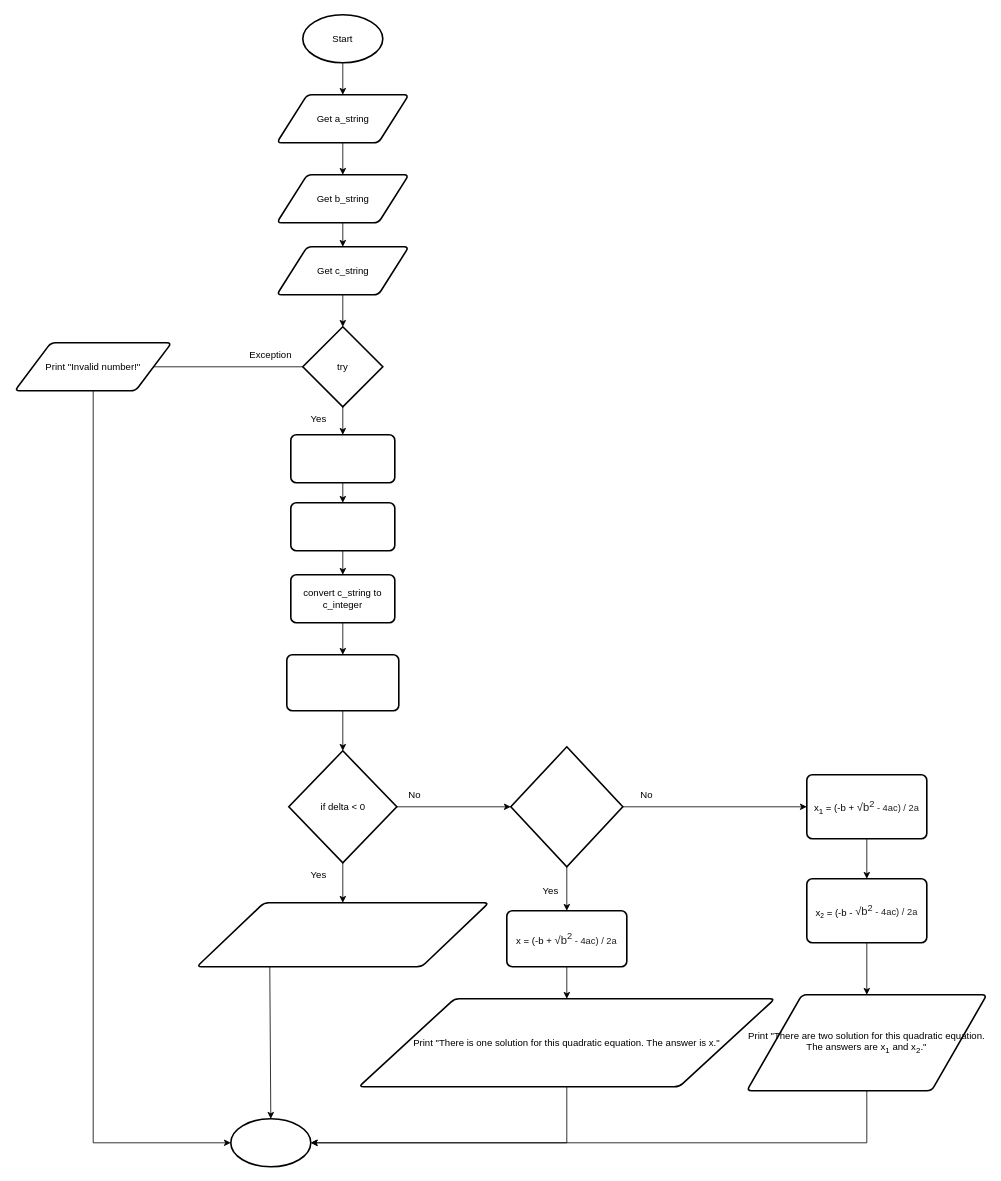
The diagram is 1001 pixels wide and 1181 high, and some of its shapes have lost their labels. Each missing label, with the centre of its shape:
convert a_string to a_integer: (x=342, y=458)
convert b_string to b_integer: (x=342, y=526)
delta = b 2 - 4 * a * d: (x=342, y=682)
If delta == 0: (x=566, y=806)
Print "No real solutions for this quadratic equation!": (x=342, y=934)
Stop: (x=270, y=1142)
